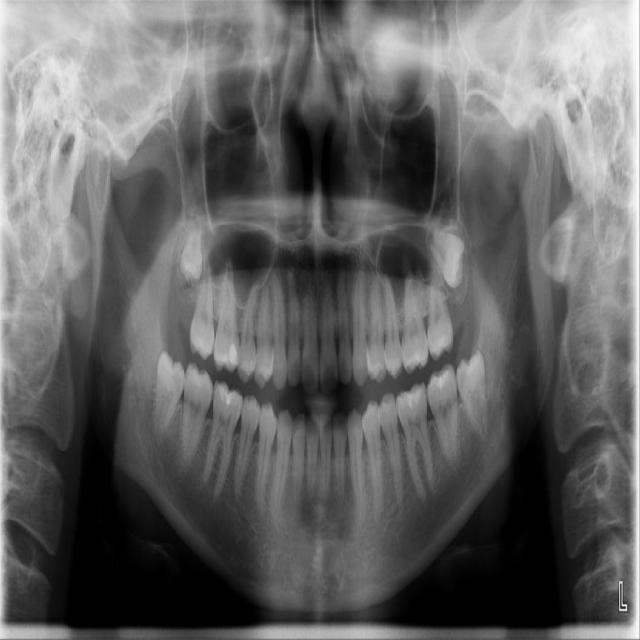Filling: (400, 383, 422, 408), (433, 364, 452, 389), (217, 383, 239, 403), (227, 343, 240, 369)
impacted tooth: (148, 350, 185, 445), (457, 350, 488, 437), (428, 212, 463, 288), (180, 208, 204, 282)
